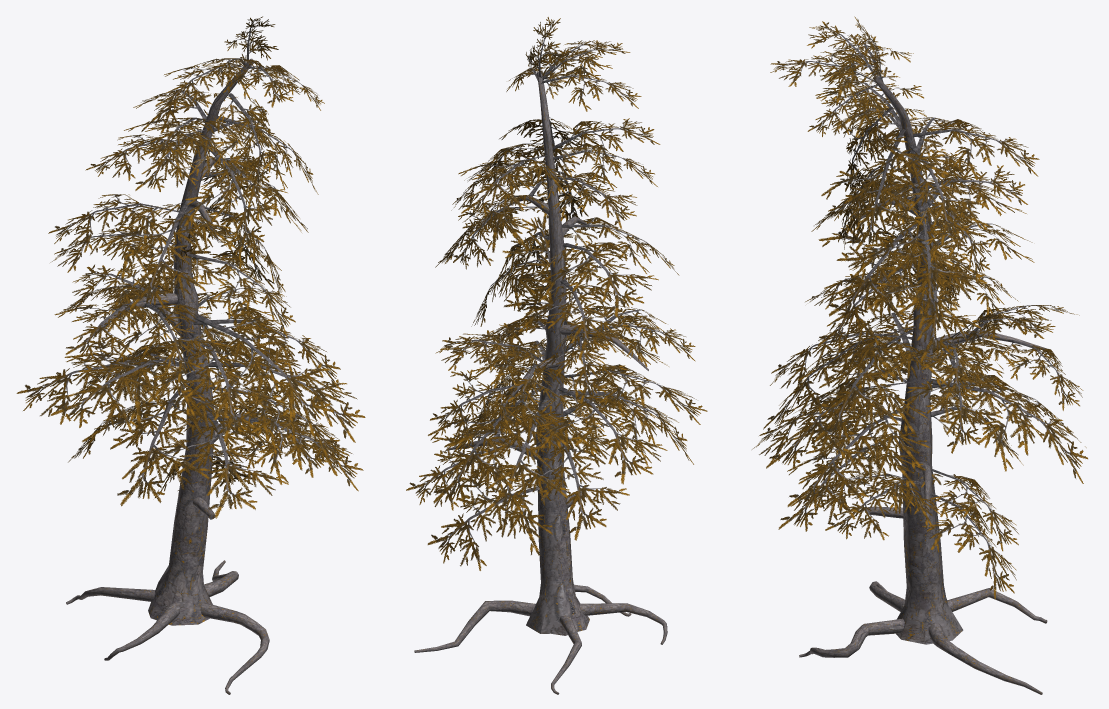
File: pinetree1_afsTREE.fbx
The picture shows the model from 3 angles, left to right: view 1: azimuth 30°, elevation 25°; view 2: azimuth 150°, elevation 25°; view 3: azimuth 270°, elevation 25°; orthographic projection. The views are drawn at different scales.
Visible parts, largest first — view 1: trunk, leaves_62, leaves_11, leaves_82, leaves_45, leaves_40, leaves_46, leaves_18, leaves_23, leaves_81, leaves_4, leaves_3_5 (+30 smaller); view 2: trunk, leaves_57, leaves_1_4, leaves_78_2, leaves_18, leaves_78, leaves_3_5, leaves_61, leaves_0_3, leaves_2_2, leaves_76, leaves_45 (+29 smaller); view 3: trunk, leaves_4_2, leaves_67, leaves_36, leaves_34, leaves_10, leaves_57, leaves_81, leaves_16, leaves_8, leaves_11, leaves_5 (+35 smaller).
Part boxes in pixels (x1,y1,x2,y2): trunk: (66, 58, 269, 694); leaves_62: (82, 376, 251, 506); leaves_11: (193, 311, 333, 436); leaves_82: (98, 196, 236, 308); leaves_45: (50, 350, 205, 431); leaves_40: (140, 408, 288, 518); leaves_46: (147, 331, 284, 442); leaves_18: (16, 340, 186, 427); leaves_23: (184, 143, 278, 254); leaves_81: (207, 350, 365, 442); leaves_4: (116, 302, 220, 383); leaves_3_5: (48, 194, 185, 257); trunk: (414, 72, 667, 694); leaves_57: (428, 386, 573, 505); leaves_1_4: (448, 395, 601, 515); leaves_78_2: (427, 472, 552, 570); leaves_18: (537, 387, 667, 484); leaves_78: (510, 425, 629, 540); leaves_3_5: (540, 242, 658, 317); leaves_61: (518, 279, 631, 359); leaves_0_3: (502, 213, 601, 324); leaves_2_2: (430, 369, 521, 443); leaves_76: (458, 155, 568, 216); leaves_45: (564, 364, 707, 424); trunk: (799, 75, 1047, 694); leaves_4_2: (853, 188, 992, 330); leaves_67: (821, 129, 952, 251); leaves_36: (787, 406, 929, 513); leaves_34: (798, 329, 950, 442); leaves_10: (818, 217, 954, 328); leaves_57: (928, 375, 1087, 483); leaves_81: (766, 381, 927, 469); leaves_16: (866, 235, 983, 362); leaves_8: (778, 435, 925, 531); leaves_11: (763, 326, 916, 429); leaves_5: (902, 344, 1003, 453).
Size of the model in its own units: 341 by 743 by 355.
